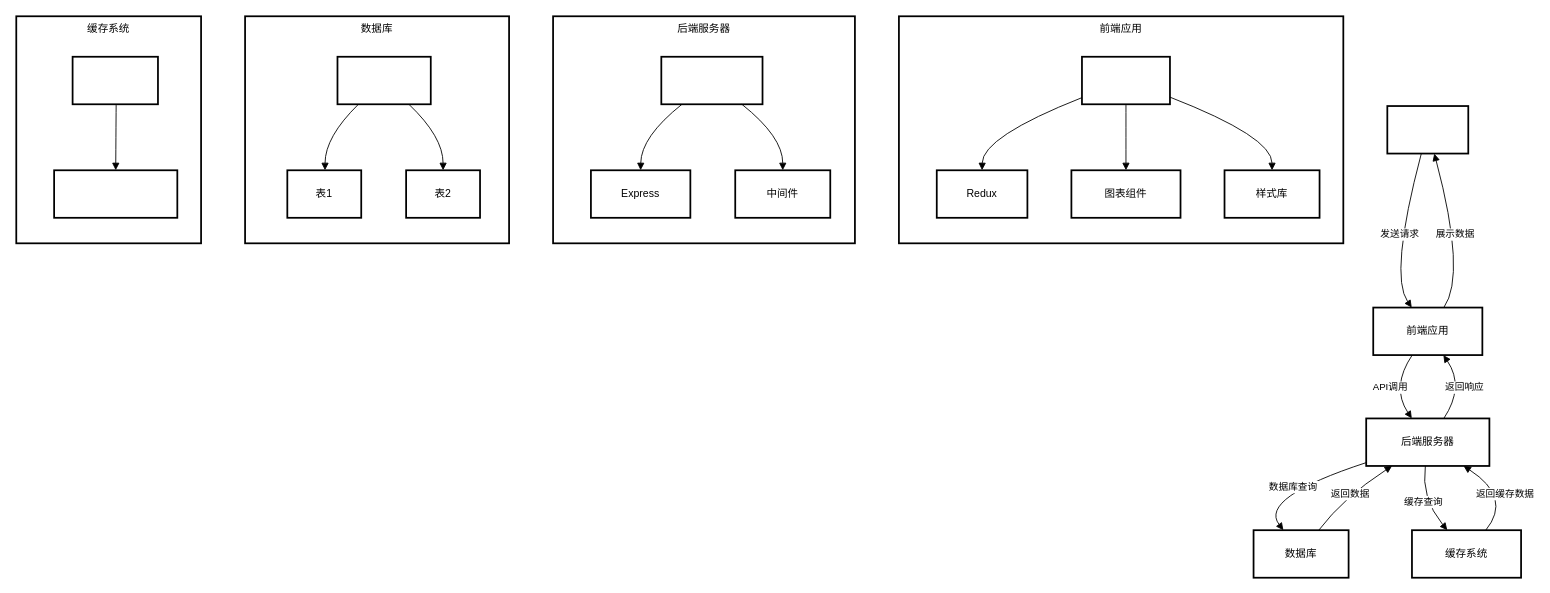
This 1550x593 diagram has some shape labels left out. The centre of each missing label's shape, as x and y in pixels:
"MySQL" goes at (383,80).
"Node.js" goes at (711,80).
"React" goes at (1125,80).
"Redis" goes at (114,80).
"用户" goes at (1427,129).
"缓存键值对" goes at (115,193).
